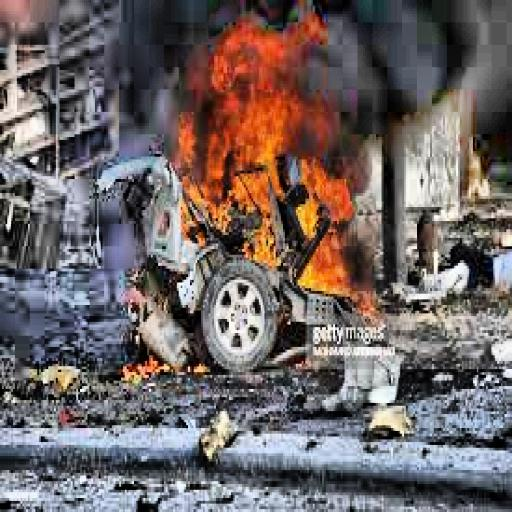fire: (168, 20, 412, 300), (114, 330, 173, 389)
